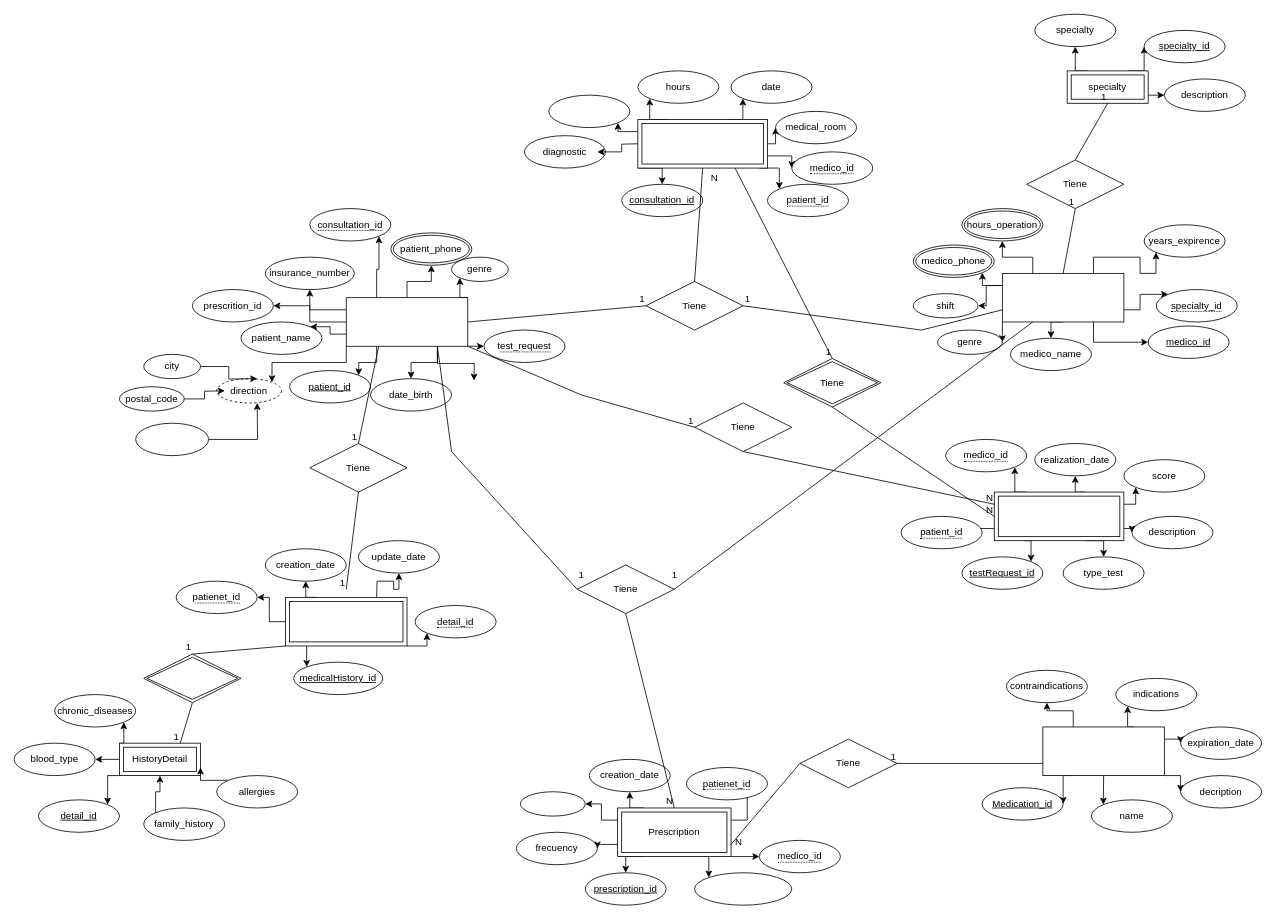
Some shapes in this 1276 by 919 pixel diagram are drawn without their labels. The centre of each missing label's shape, as x and y in pixels:
Consultation: [702,143]
dose: [552,803]
duration_traetment: [743,888]
house_number: [172,439]
MedicalHistory: [346,621]
Medication: [1103,751]
Medico: [1063,297]
Patient: [406,321]
Relationship: [192,678]
state: [589,111]
TestRequest: [1058,516]
